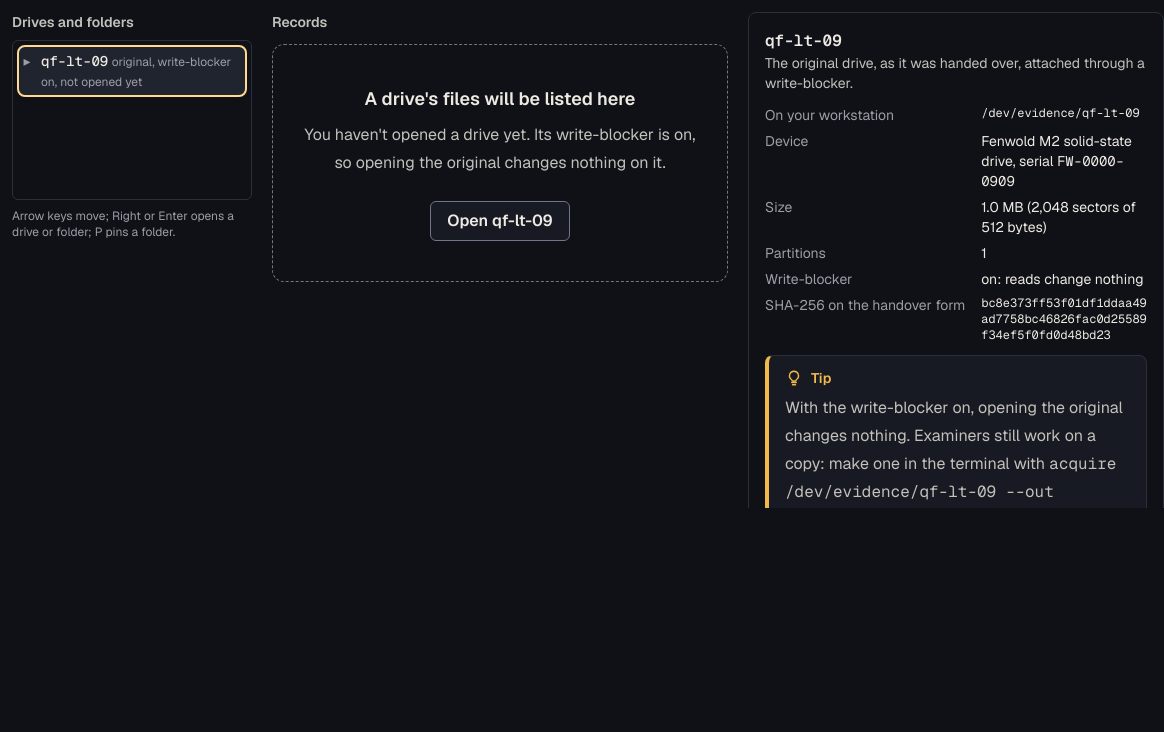
Test: the tree › strikes deleted folders through and says so in words
This screenshot has width=1164, height=732.
Press Enter
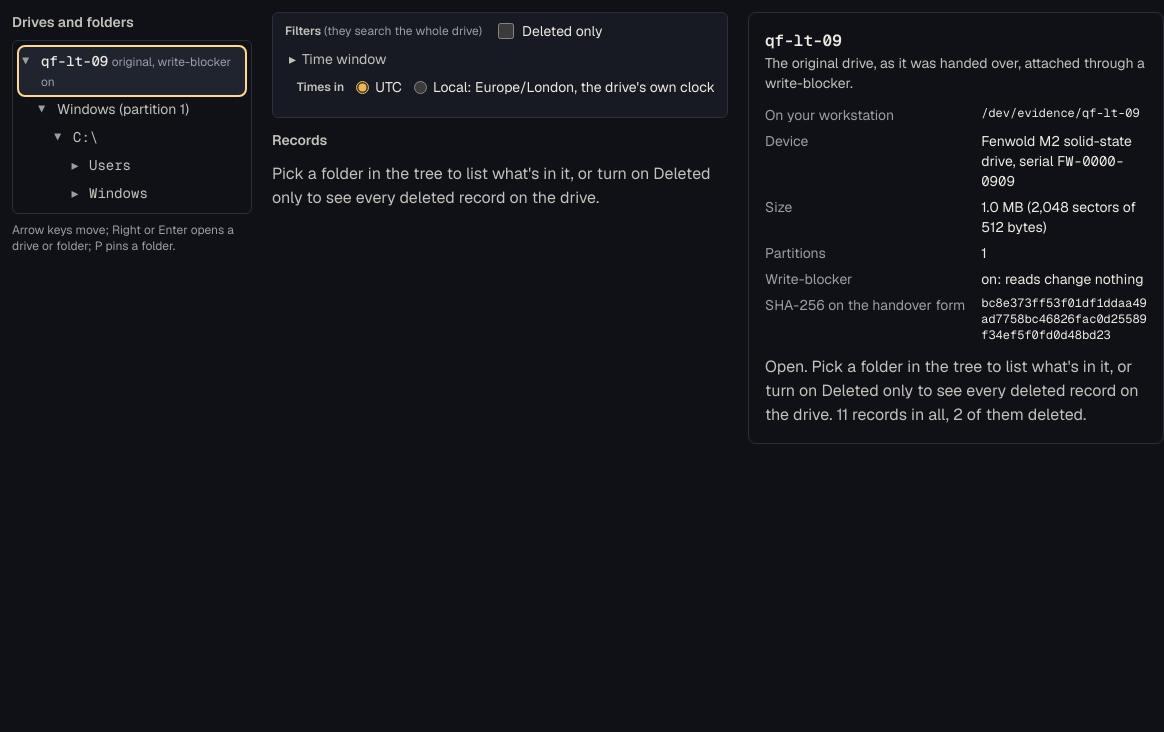
Click the list item "▸ Users": (101, 165) [72,156,131,174]
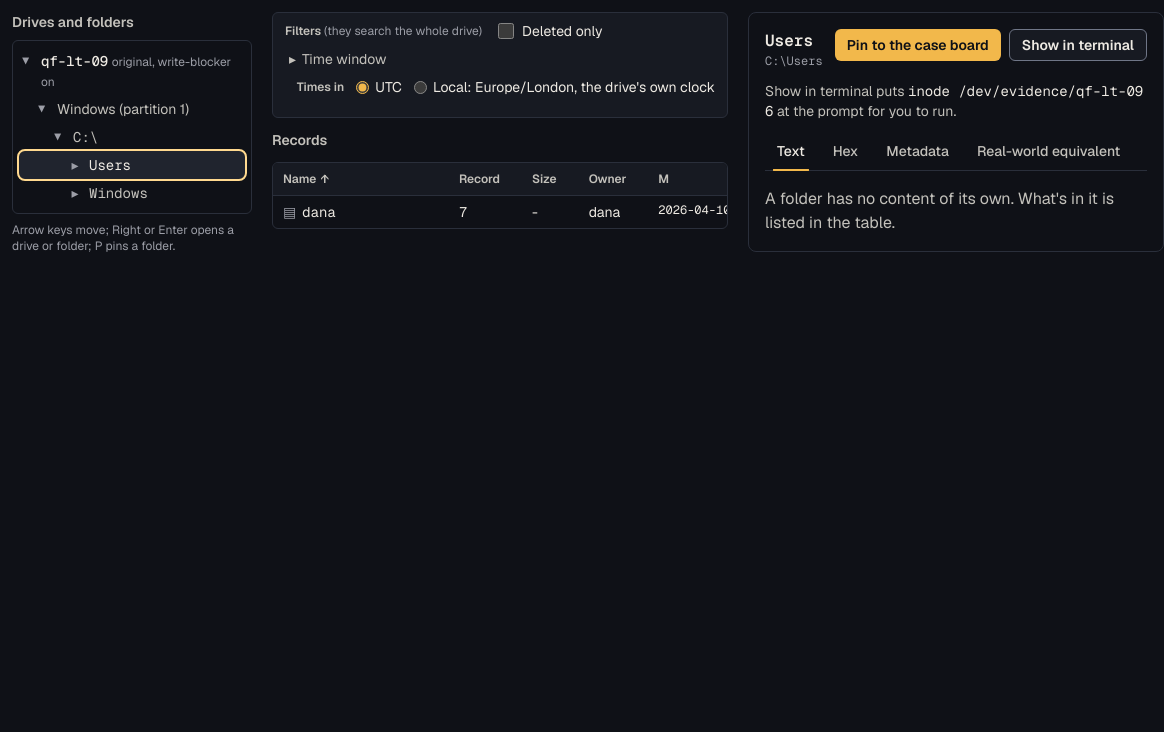
Press Arrowright
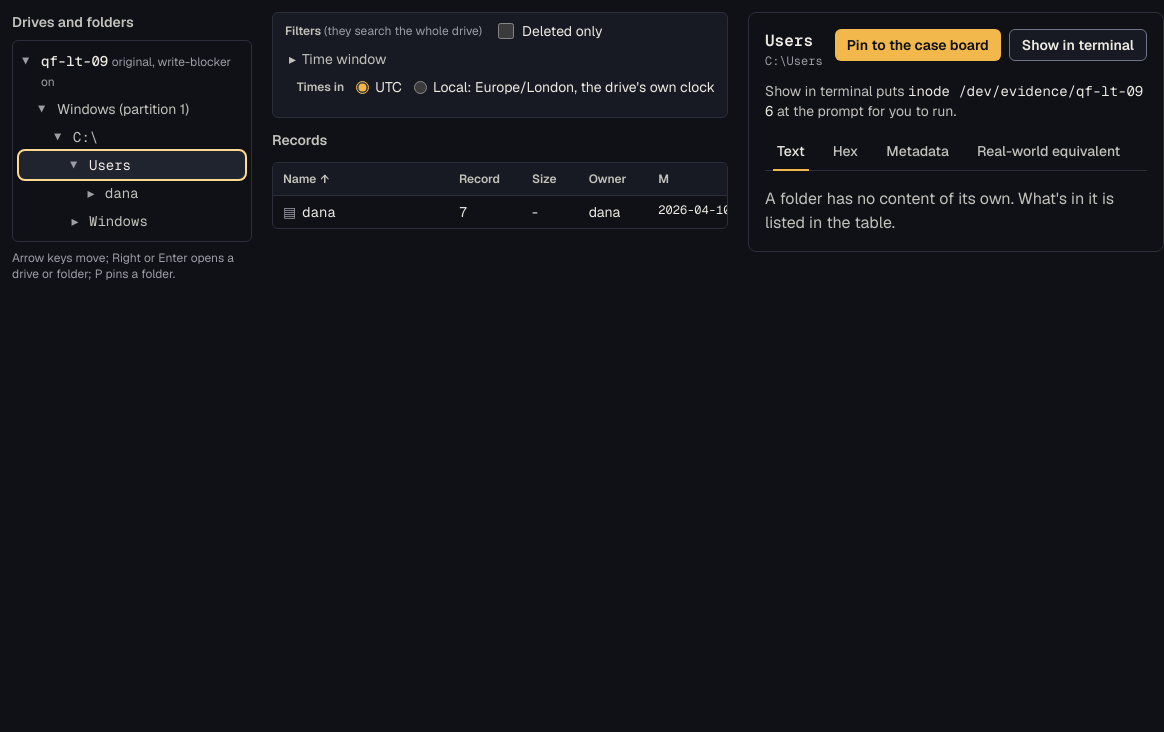
Click the list item "▸ dana": (113, 193) [88,184,139,202]
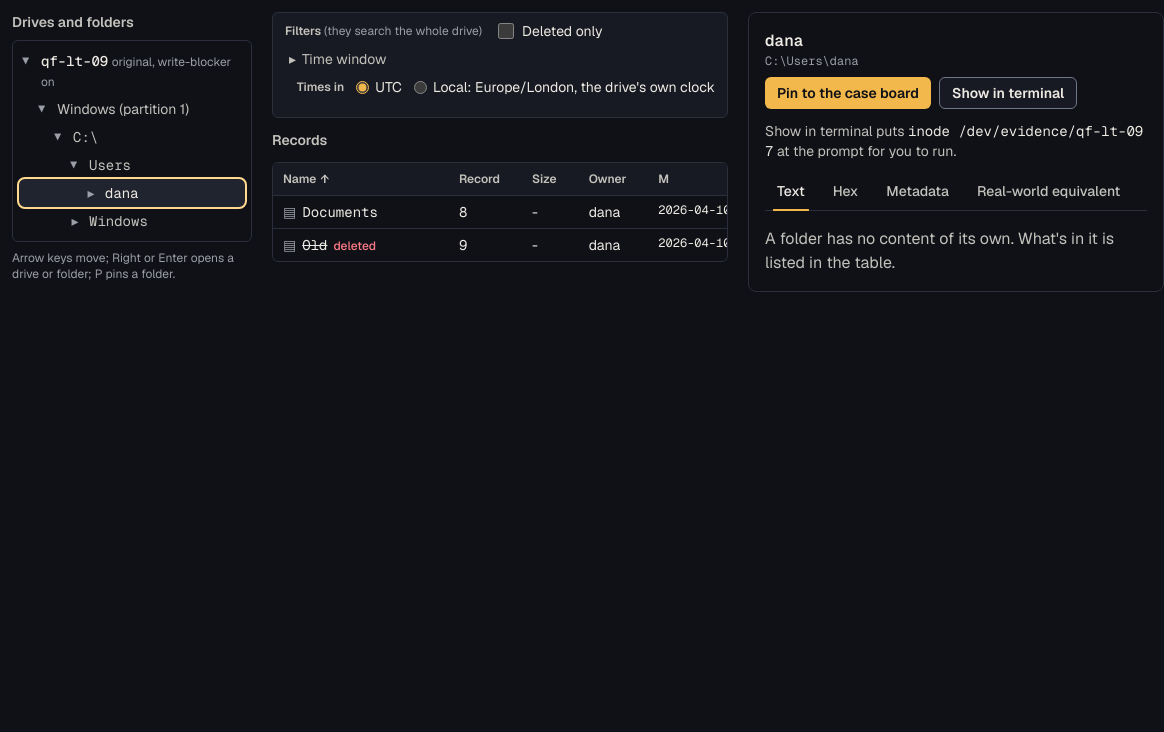
Press Arrowright
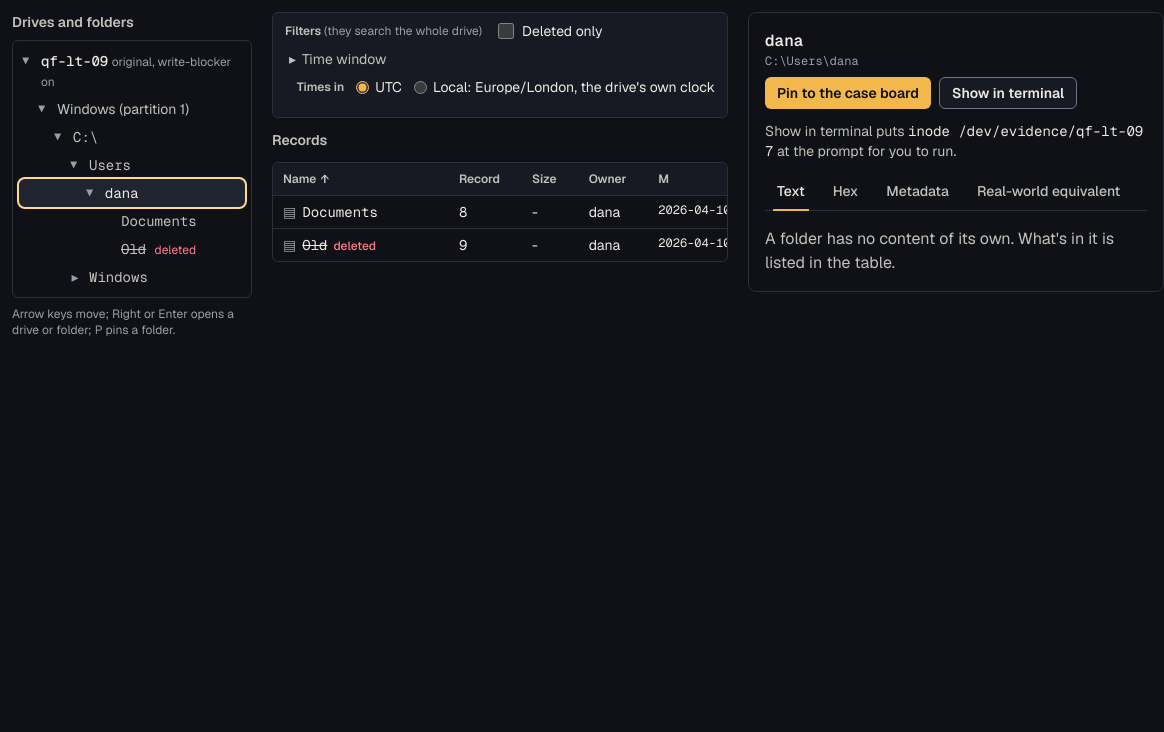
Expected: the 1st text with class "line-through" reads "Old", [121,240,146,258]
